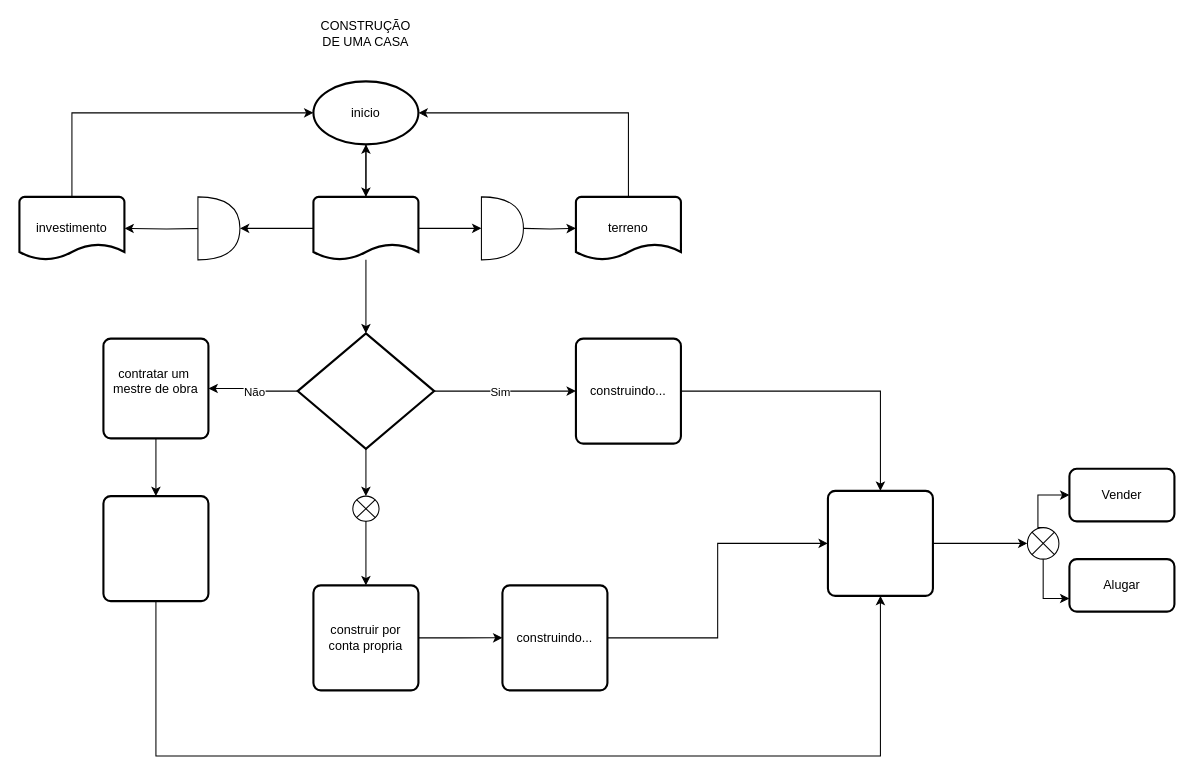
The diagram is 1193 pixels wide and 782 high, and some of its shapes have lost their labels. The box of each missing label's shape, as (x1, y1, x2, y2) in pixels:
Aprovação do projeto: (312, 195, 419, 260)
Casa feita: (826, 489, 933, 596)
construir..: (102, 495, 209, 602)
Contratar uma construtora?: (296, 332, 435, 449)
